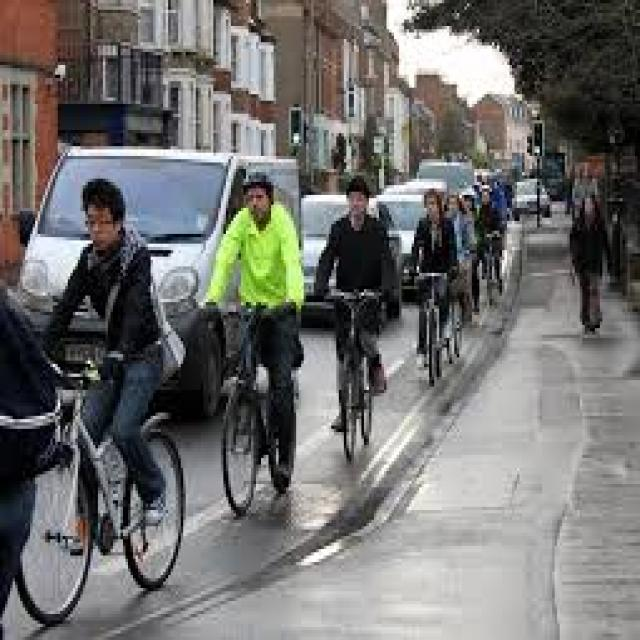bicycle: (16, 170, 185, 624), (205, 175, 303, 514), (315, 176, 391, 457), (413, 189, 457, 384)
car: (20, 149, 299, 415)
